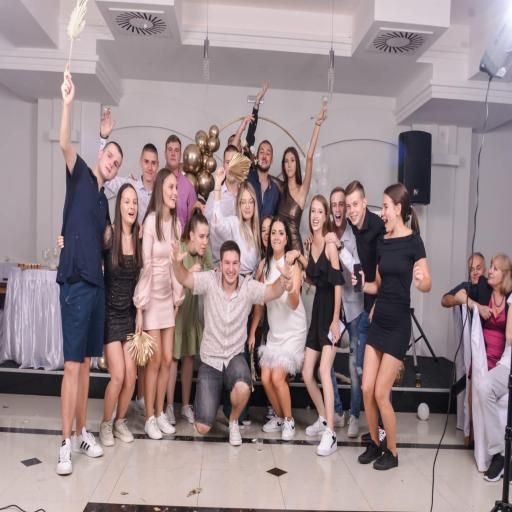marija: (120, 187, 138, 225)
